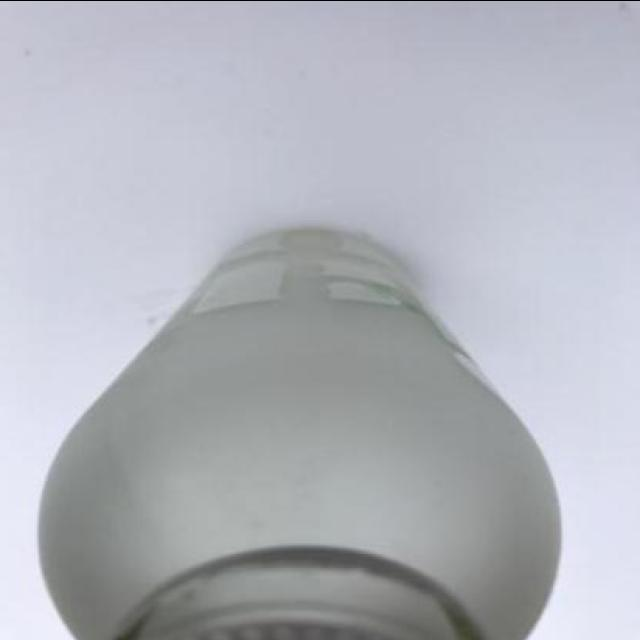kaca: (37, 235, 556, 640)
